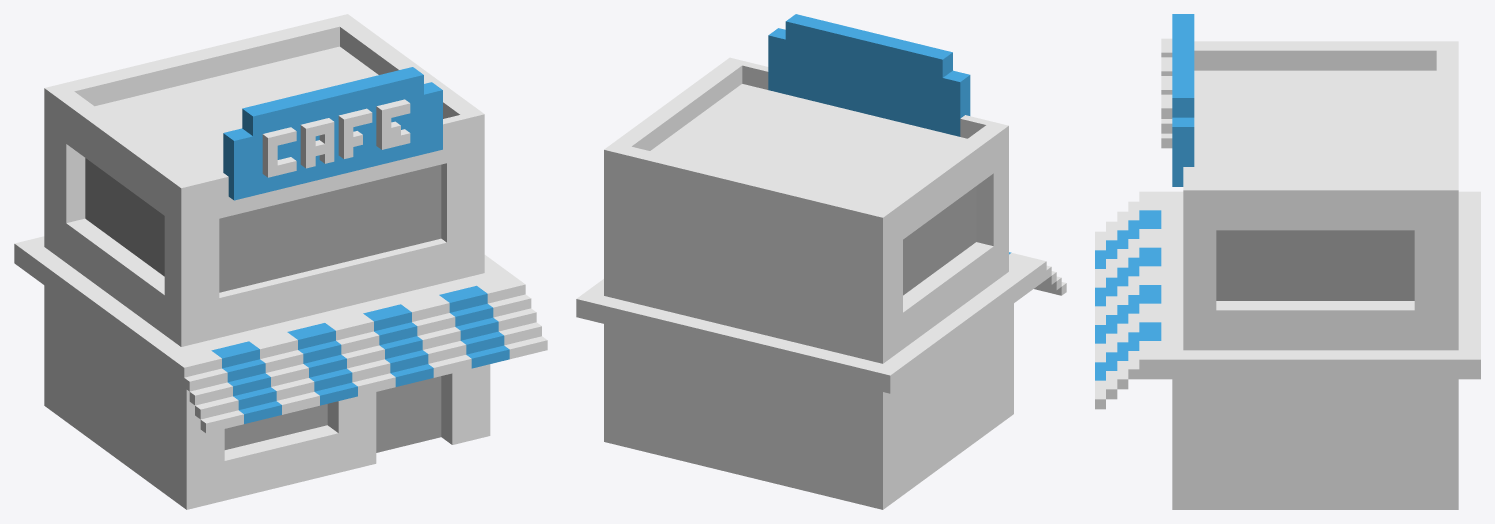
The model's file is building_9.obj.
3 renders of one model, left to right at view 1: azimuth 30°, elevation 25°; view 2: azimuth 150°, elevation 25°; view 3: azimuth 270°, elevation 25°, orthographic. The views are drawn at different scales.
Bounding box in the file's own units: 3.6 × 3.8 × 3.5.
Materials: 1 (1 with a texture image).
